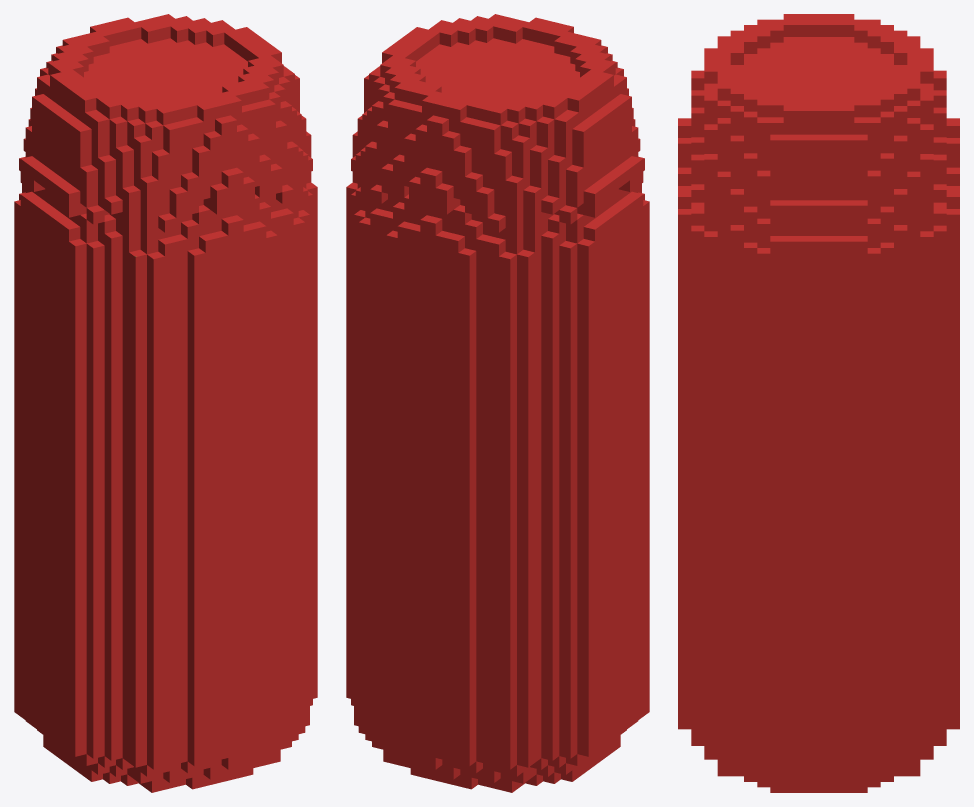
Rendered from propane tank.fbx.
The picture shows the model from 3 angles, left to right: view 1: azimuth 30°, elevation 25°; view 2: azimuth 150°, elevation 25°; view 3: azimuth 270°, elevation 25°; orthographic projection.
Visible parts, largest first — view 1: propane tank; view 2: propane tank; view 3: propane tank.
Boxes of the visible parts, x1,y1,x2,y2 form: propane tank: (14, 14, 317, 792); propane tank: (346, 14, 649, 792); propane tank: (678, 14, 959, 792).
Size of the model in its own units: 195 by 519 by 194.
